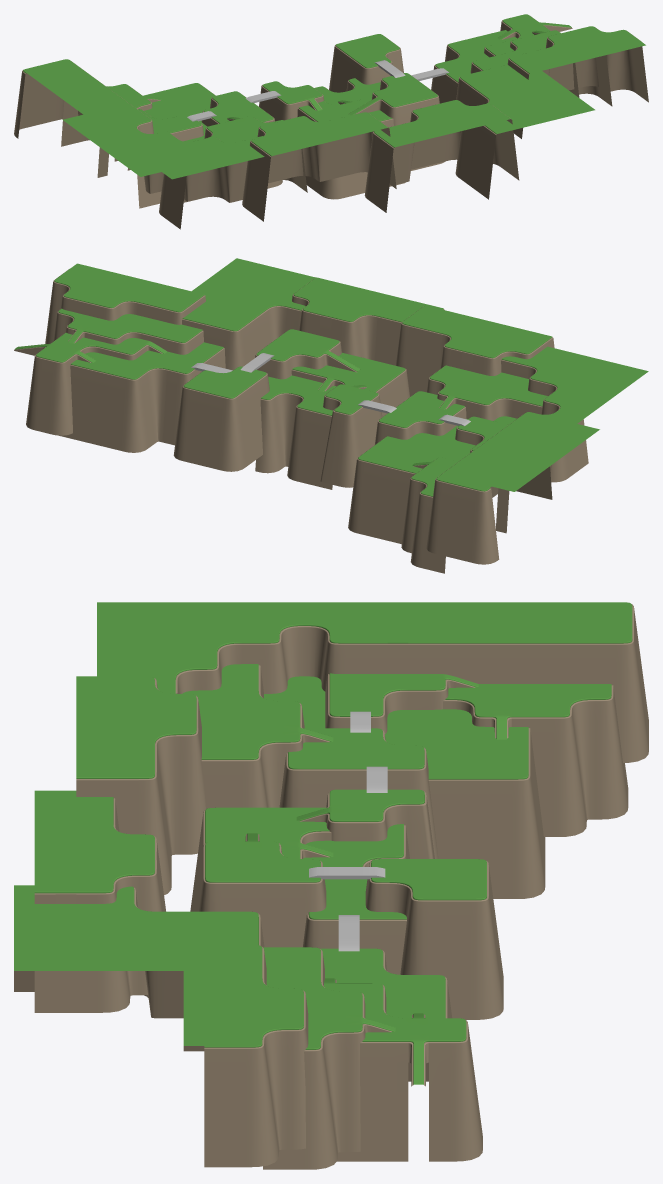
File: map_01.fbx
3 views of the same model, one above another, from view 1: azimuth 30°, elevation 25°; view 2: azimuth 150°, elevation 25°; view 3: azimuth 270°, elevation 25° (orthographic). The views are drawn at different scales.
Parts seen in each view (by area): view 1: hill_17_grass_big, hill_18_cliff, hill_11_cliff, hill_17_cliff, hill_05_grass_big, hill_12_grass_big, hill_01_grass, hill_01_cliff, hill_05_cliff, hill_18_grass_big, hill_11_grass_big, hill_17_grass (+34 smaller); view 2: hill_04_cliff, hill_17_grass_big, hill_06_cliff, hill_17_cliff, hill_07_cliff, hill_05_grass_big, hill_12_grass_big, hill_12_cliff, hill_03_cliff, hill_18_cliff, hill_01_grass, hill_11_cliff (+37 smaller); view 3: hill_17_grass_big, hill_17_cliff, hill_01_cliff, hill_03_cliff, hill_05_grass_big, hill_13_cliff, hill_12_cliff, hill_06_cliff, hill_01_grass, hill_18_cliff, hill_02_cliff, hill_12_grass_big (+41 smaller).
Boxes of the visible parts, box(x1,y1,x2,y2) form: hill_17_grass_big: box(27, 64, 264, 179); hill_18_cliff: box(242, 114, 396, 221); hill_11_cliff: box(364, 107, 519, 212); hill_17_cliff: box(14, 61, 247, 202); hill_05_grass_big: box(472, 68, 594, 131); hill_12_grass_big: box(62, 87, 210, 176); hill_01_grass: box(510, 26, 645, 73); hill_01_cliff: box(507, 28, 648, 138); hill_05_cliff: box(455, 77, 496, 199); hill_18_grass_big: box(263, 117, 379, 153); hill_11_grass_big: box(390, 104, 502, 145); hill_17_grass: box(23, 59, 263, 149); hill_04_cliff: box(59, 348, 225, 452); hill_17_grass_big: box(449, 346, 648, 487); hill_06_cliff: box(173, 369, 269, 471); hill_17_cliff: box(426, 359, 560, 564); hill_07_cliff: box(255, 393, 332, 489); hill_05_grass_big: box(188, 258, 315, 325); hill_12_grass_big: box(371, 416, 599, 491); hill_12_cliff: box(348, 437, 415, 544); hill_03_cliff: box(14, 334, 162, 435); hill_18_cliff: box(395, 306, 554, 396); hill_01_grass: box(54, 263, 203, 311); hill_11_cliff: box(292, 278, 444, 365); hill_17_grass_big: box(97, 602, 615, 689); hill_17_cliff: box(175, 604, 648, 762); hill_01_cliff: box(183, 946, 308, 1167); hill_03_cliff: box(335, 979, 482, 1161); hill_05_grass_big: box(14, 892, 242, 970); hill_13_cliff: box(443, 685, 628, 836); hill_12_cliff: box(428, 728, 545, 898); hill_06_cliff: box(365, 861, 503, 1019); hill_01_grass: box(183, 945, 303, 1045); hill_18_cliff: box(76, 678, 205, 895); hill_02_cliff: box(263, 949, 391, 1169); hill_12_grass_big: box(264, 676, 511, 771).
Size of the model in its own units: 2559 by 453 by 1530.
